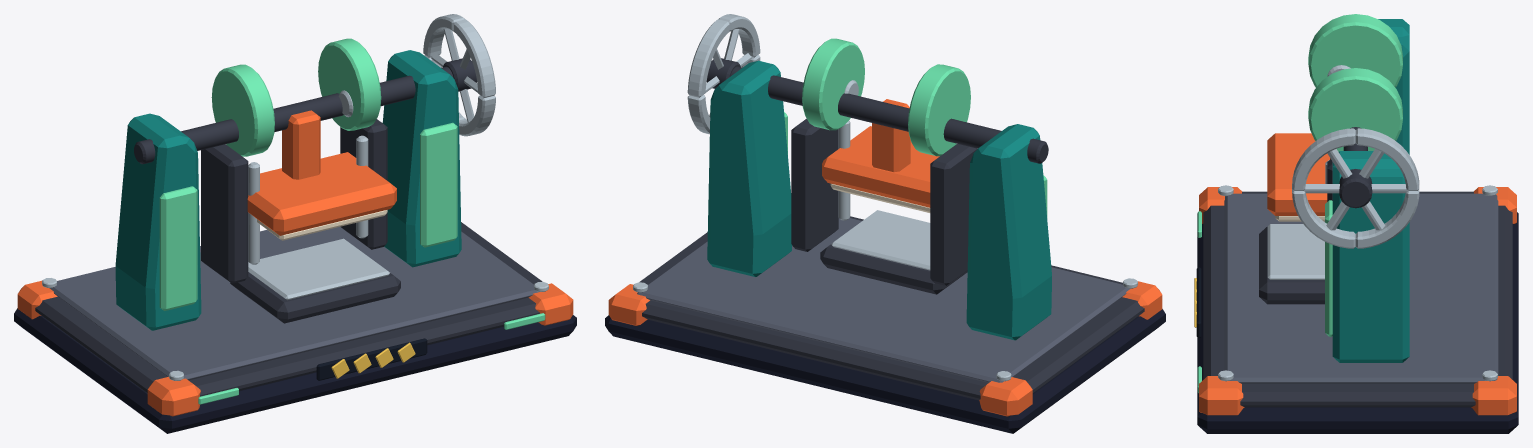
Rendered from CamCruncher.fbx.
3 renders of one model, left to right at view 1: azimuth 30°, elevation 25°; view 2: azimuth 150°, elevation 25°; view 3: azimuth 270°, elevation 25°, orthographic. The views are drawn at different scales.
Visible parts, largest first — view 1: Frame, Camshaft, Stamp; view 2: Frame, Camshaft, Stamp; view 3: Frame, Camshaft, Stamp.
Part boxes in pixels (x1=…): Frame: x1=14, y1=50, x2=576, y2=433; Camshaft: x1=134, y1=14, x2=495, y2=164; Stamp: x1=247, y1=90, x2=396, y2=240; Frame: x1=605, y1=60, x2=1165, y2=433; Camshaft: x1=687, y1=14, x2=1048, y2=163; Stamp: x1=822, y1=80, x2=939, y2=212; Frame: x1=1194, y1=19, x2=1518, y2=433; Camshaft: x1=1292, y1=14, x2=1419, y2=248; Stamp: x1=1267, y1=65, x2=1350, y2=221.
Bounding box in the file's own units: 456 × 288 × 295.
Materials: 1 (1 with a texture image).
